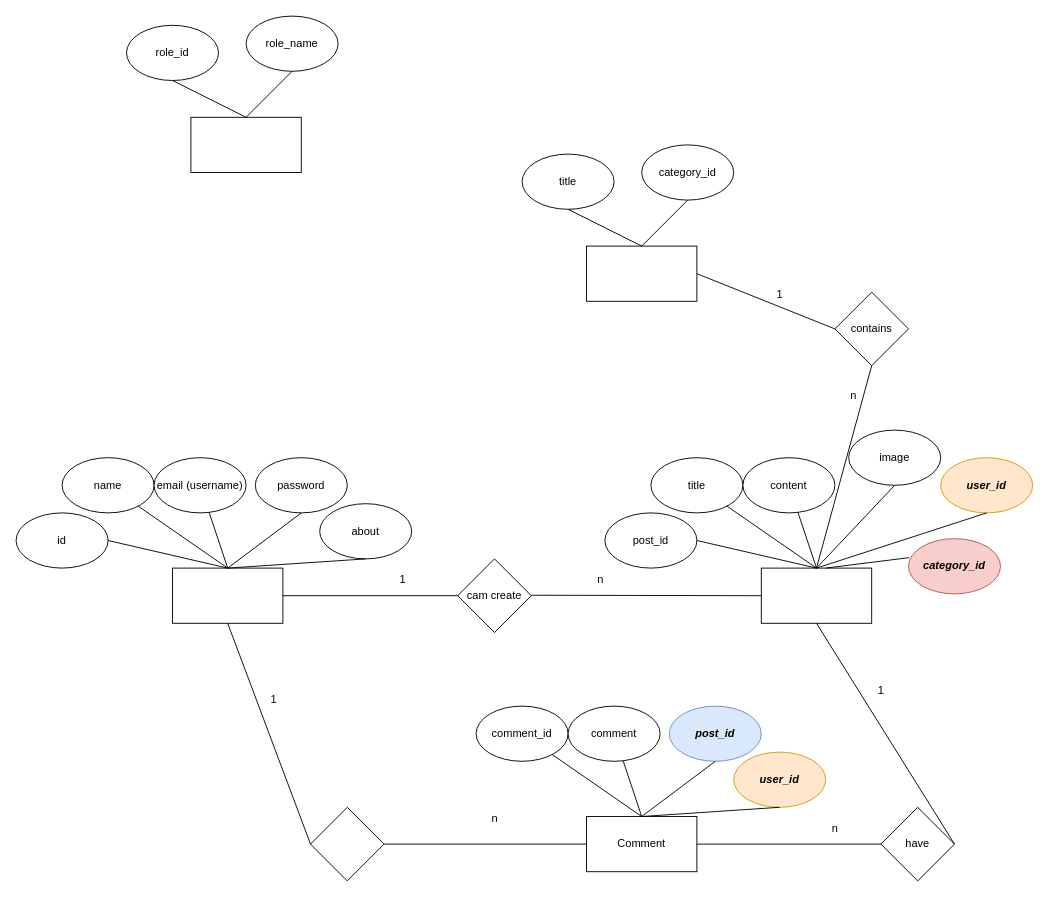
The diagram is 1049 pixels wide and 897 high, and some of its shapes have lost their labels. The shapes that lost their labels are listed below. From the top down, each one's centre as x and y in pixels, then its label:
At (245,144): "Role".
At (641,273): "Category".
At (227,595): "User".
At (816,595): "Post".
At (347,843): "do".
